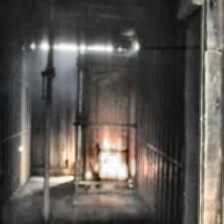fire: (96, 129, 133, 183)
